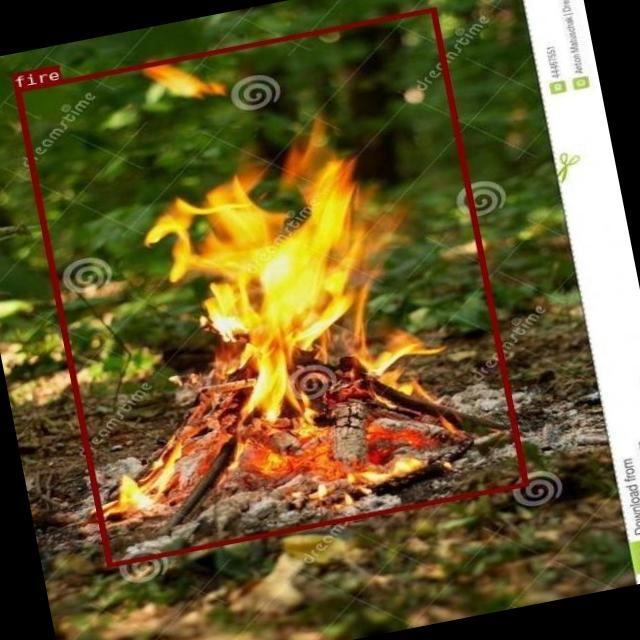fire: (13, 6, 528, 566)
